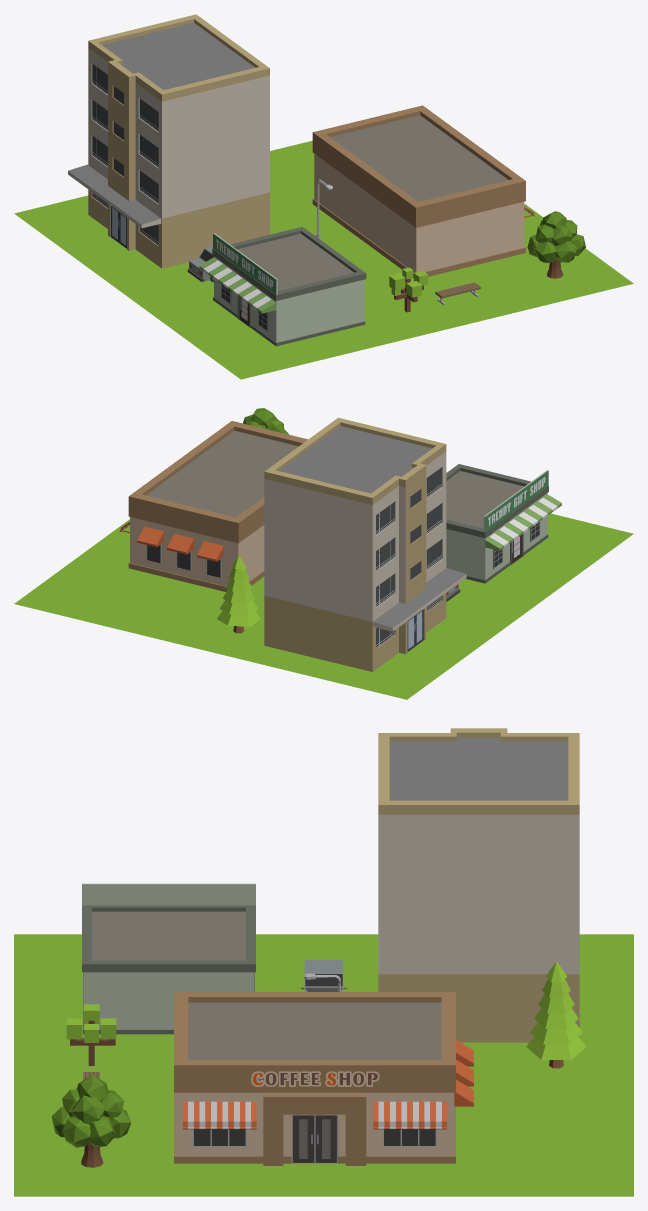
File: remix-mixed-neighborhood.glb
3 views of the same model, one above another, from view 1: azimuth 30°, elevation 25°; view 2: azimuth 150°, elevation 25°; view 3: azimuth 270°, elevation 25° (orthographic). The views are drawn at different scales.
Visible parts, largest first — view 1: Building Sky_small_color01_Cube.028, Natures_Grass Tile_Plane.010, Building_Coffee Shop_Cube.010, Building_Gift Shop_Cube.007, Natures_Big Tree_Mesh.008, Natures_Cube Tree_Cube.017; view 2: Building Sky_small_color01_Cube.028, Natures_Grass Tile_Plane.010, Building_Coffee Shop_Cube.010, Building_Gift Shop_Cube.007, Natures_Fir Tree_Cylinder.004, Natures_Big Tree_Mesh.008; view 3: Natures_Grass Tile_Plane.010, Building Sky_small_color01_Cube.028, Building_Coffee Shop_Cube.010, Building_Gift Shop_Cube.007, Natures_Big Tree_Mesh.008, Natures_Fir Tree_Cylinder.004, Natures_Cube Tree_Cube.017, Vehicle_Car_Cube.050.
Boxes of the visible parts, x1,y1,x2,y2 form: Building Sky_small_color01_Cube.028: (68,14,269,268); Natures_Grass Tile_Plane.010: (14,140,633,379); Building_Coffee Shop_Cube.010: (312,105,534,277); Building_Gift Shop_Cube.007: (199,226,366,346); Natures_Big Tree_Mesh.008: (527,211,585,278); Natures_Cube Tree_Cube.017: (389,267,428,312); Building Sky_small_color01_Cube.028: (264,417,466,671); Natures_Grass Tile_Plane.010: (14,513,633,699); Building_Coffee Shop_Cube.010: (119,421,307,591); Building_Gift Shop_Cube.007: (446,464,561,583); Natures_Fir Tree_Cylinder.004: (217,555,260,633); Natures_Big Tree_Mesh.008: (243,408,289,434); Natures_Grass Tile_Plane.010: (14,934,633,1196); Building Sky_small_color01_Cube.028: (378,728,579,1042); Building_Coffee Shop_Cube.010: (174,992,473,1165); Building_Gift Shop_Cube.007: (82,883,255,1034); Natures_Big Tree_Mesh.008: (51,1074,131,1167); Natures_Fir Tree_Cylinder.004: (526,962,586,1068); Natures_Cube Tree_Cube.017: (66,1004,116,1065); Vehicle_Car_Cube.050: (301,960,346,991).
Size of the model in its own units: 40 by 16.93 by 40.
6 materials, 6 textured.
